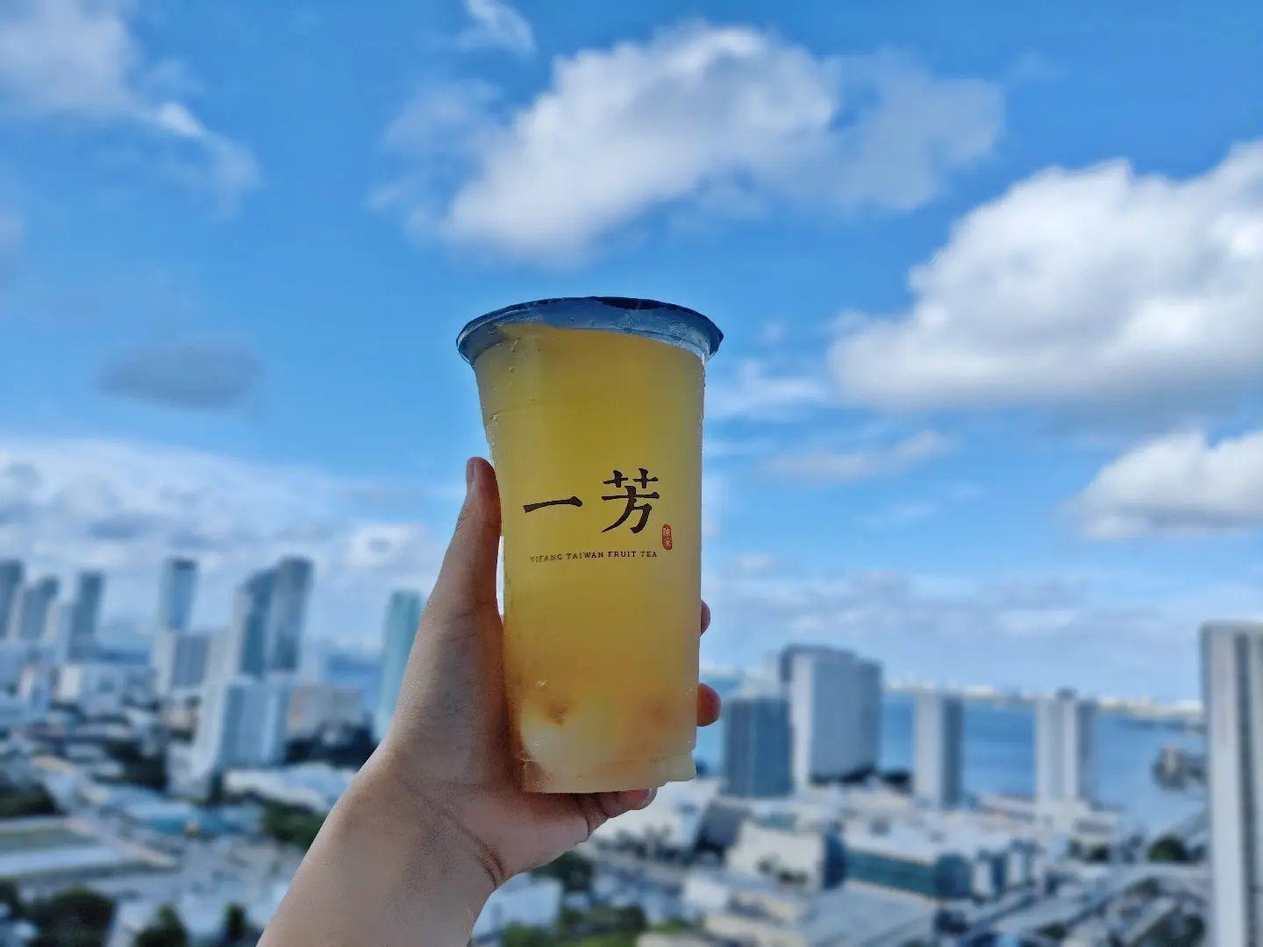cup-disposable: (460, 288, 727, 806)
